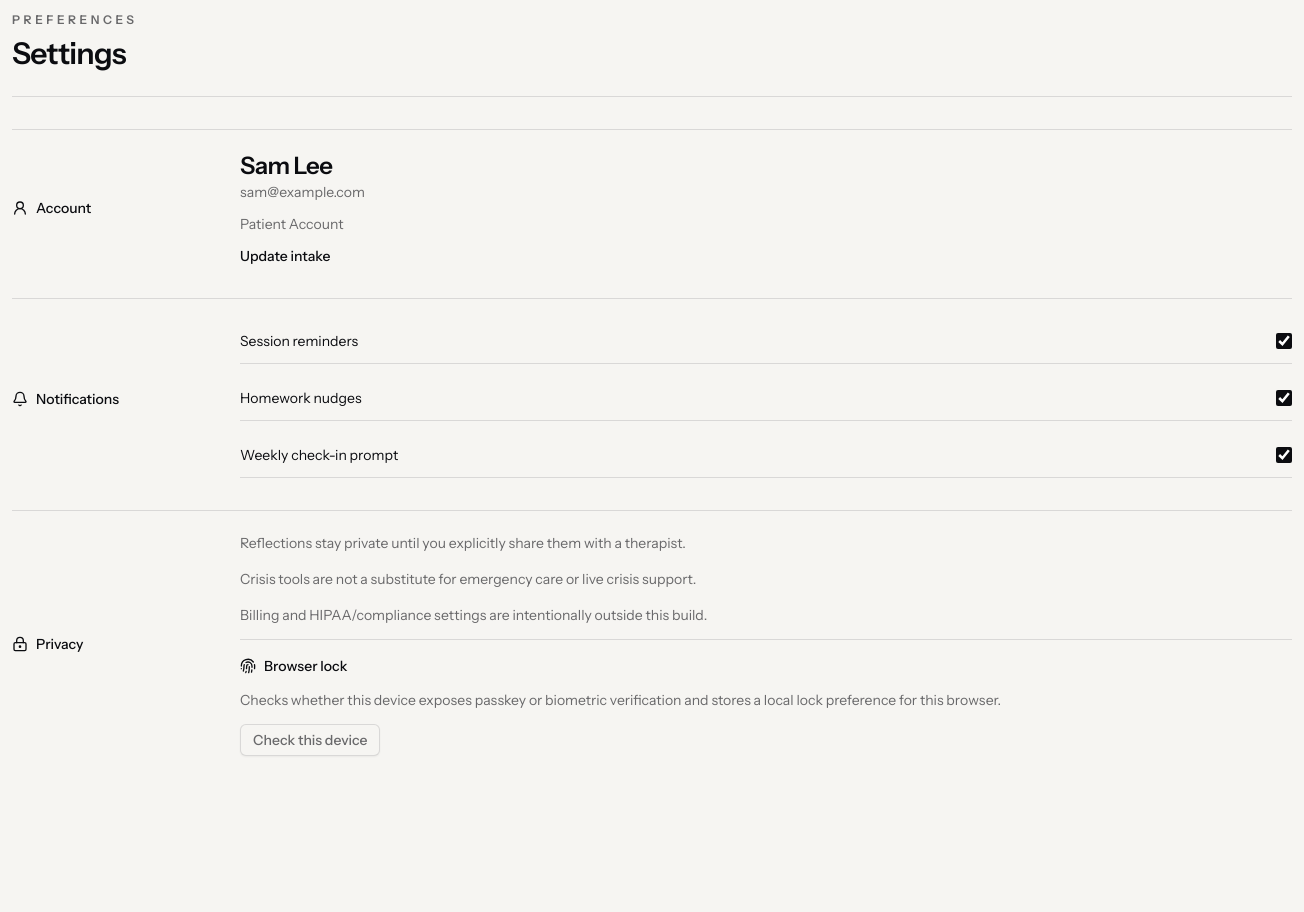
Test case: SettingsPage › reverts the toggle and surfaces an error when saving fails
Click the checkbox labelled "Homework nudges" at (1284,398), box [1276,390,1292,406]
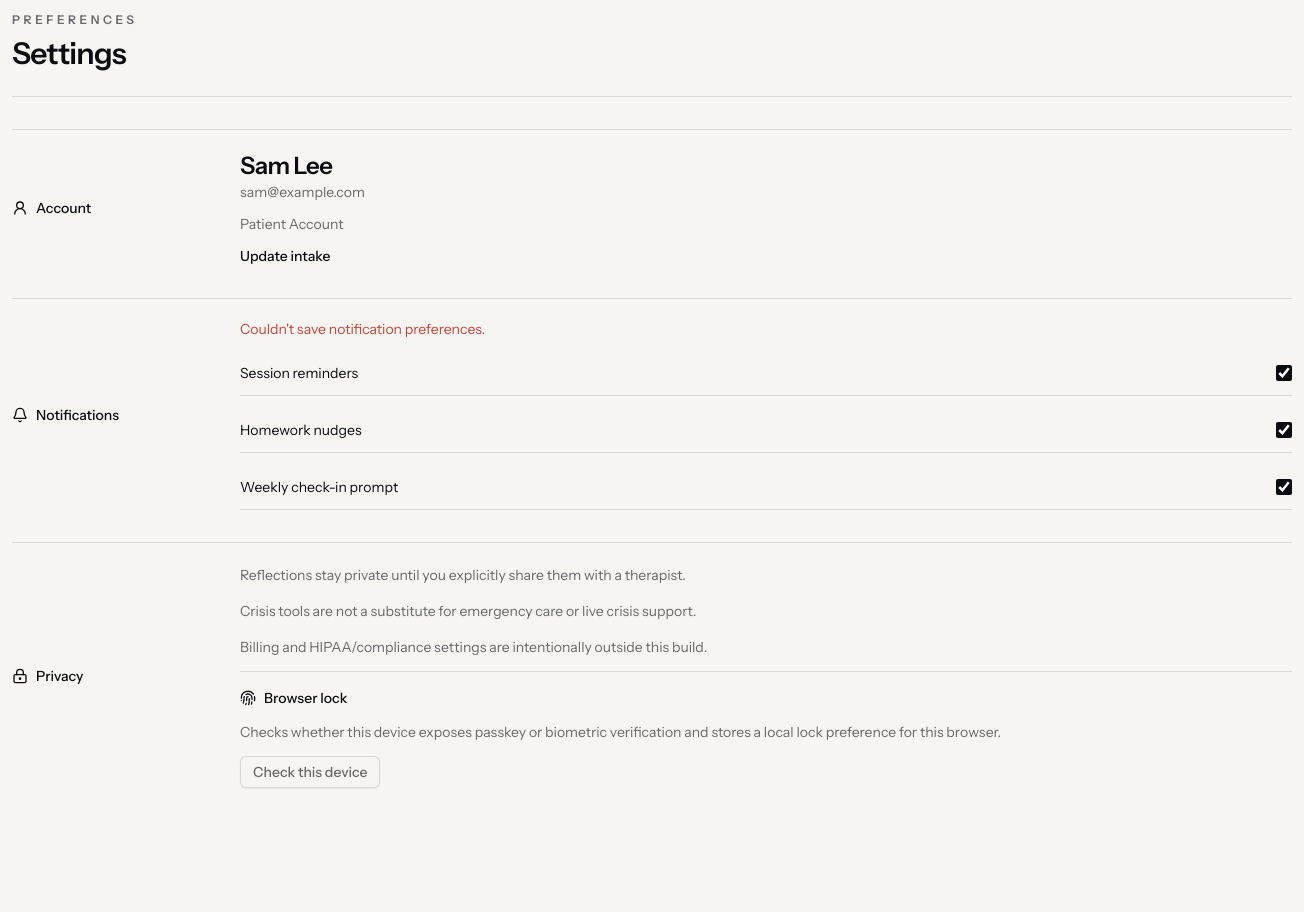
expect the checkbox labelled "Homework nudges" is checked: met, box [1276,422,1292,438]
expect the text "Couldn't save notification preferences." is shown: met, box [240,320,485,338]
